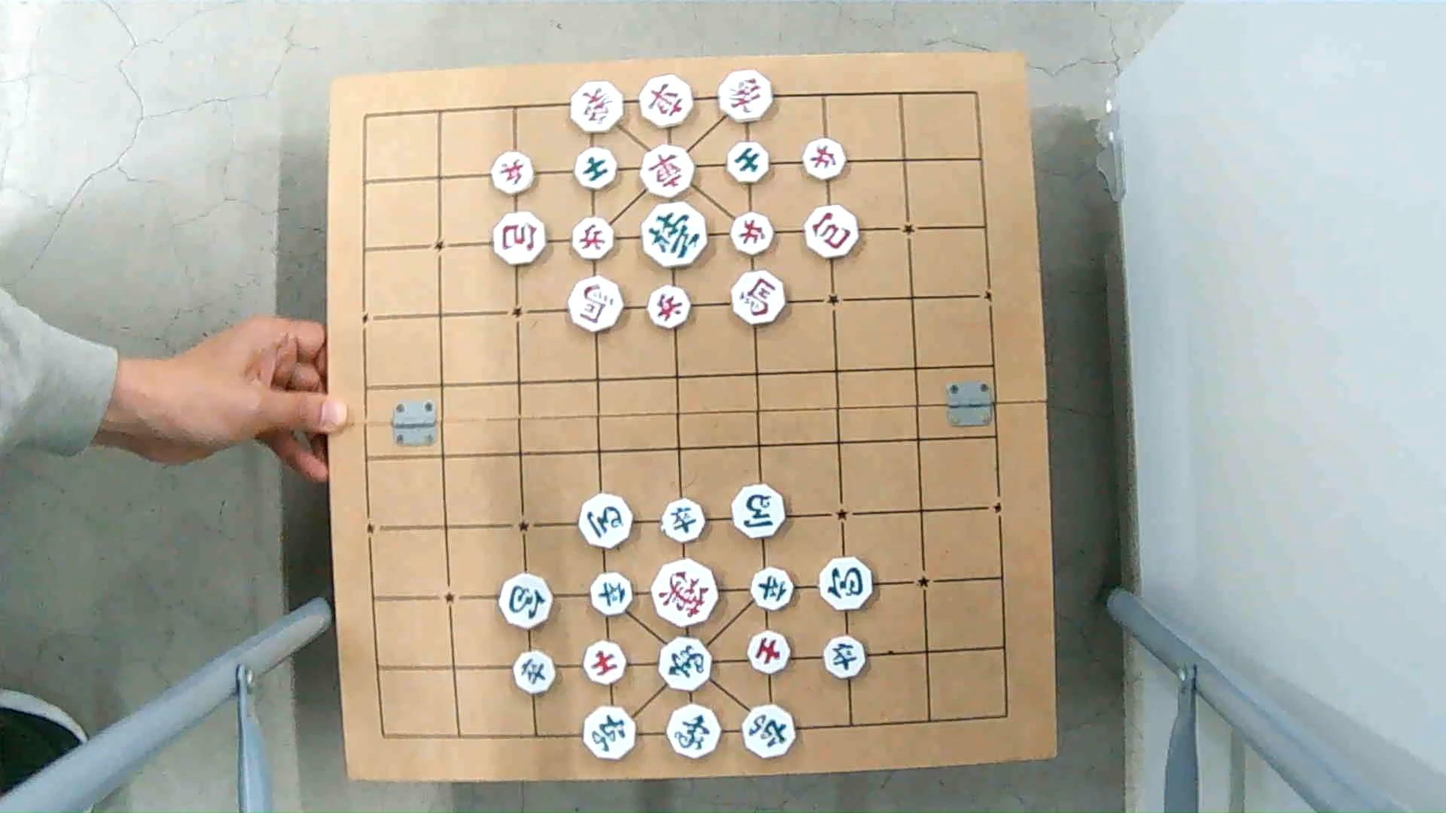cha_green: (578, 707, 639, 757), (738, 708, 797, 757)
cha_red: (638, 148, 697, 197), (636, 77, 695, 126)
jol_green: (659, 500, 709, 540), (590, 571, 634, 615), (514, 652, 557, 695), (749, 568, 794, 609), (821, 639, 868, 678)
jol_red: (800, 138, 848, 181), (569, 218, 617, 257), (728, 215, 776, 254), (489, 153, 538, 191), (645, 287, 691, 326)
ma_green: (577, 496, 636, 546), (728, 488, 789, 536)
ma_red: (565, 276, 624, 336), (731, 273, 789, 321)
po_green: (816, 559, 877, 607), (500, 575, 551, 629)
po_red: (801, 203, 861, 258), (494, 215, 551, 263)
sa_green: (724, 146, 773, 184), (576, 151, 622, 190)
sa_red: (581, 645, 631, 684), (745, 633, 792, 672)
sang_green: (660, 640, 719, 690), (665, 708, 721, 756)
sang_red: (567, 83, 627, 132), (718, 69, 774, 121)
wang_green: (642, 206, 711, 263)
wang_red: (650, 561, 721, 626)
